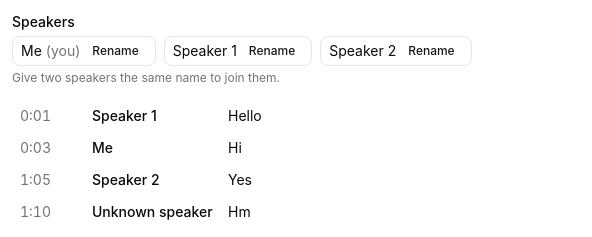
Scenario: TranscriptView (FR-3.1, FR-3.3, FR-3.8) › renames a speaker once for all their lines
Click the button with aria-label "Rename Speaker 1".
click(272, 51)  # box [241,39,303,63]
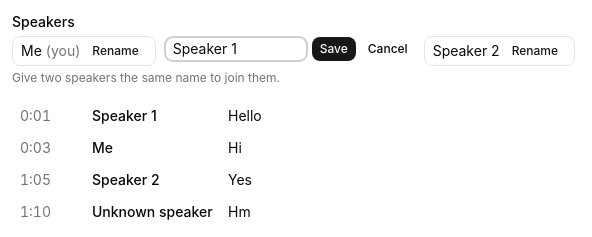
Replace the text in the field named "New name for Speaker 1" with "Ann" at (236, 49), box [164,36,308,62]
Then press Enter
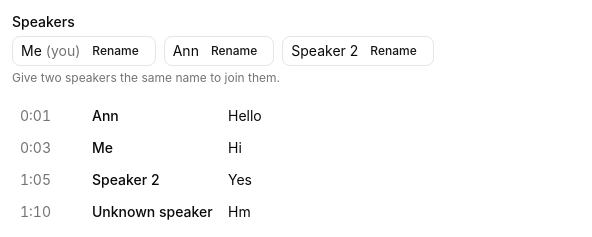
expect the button with aria-label "Rename Ann" is shown: met, box [203,39,265,63]
